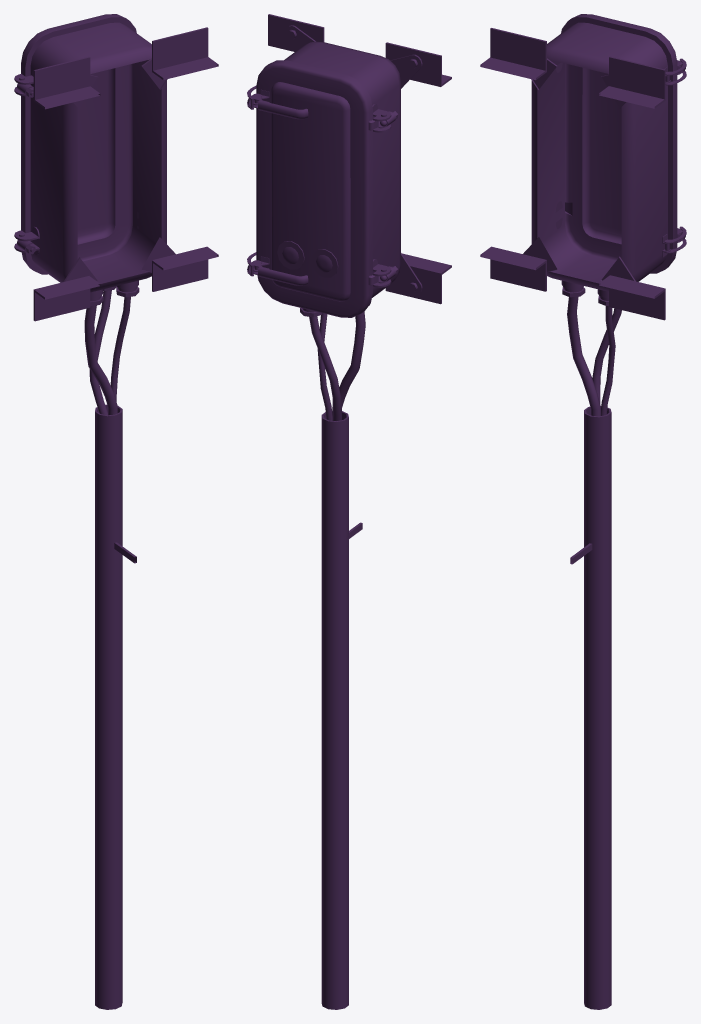
File: Engine14.fbx
3 views of the same model, side by side, from view 1: azimuth 30°, elevation 25°; view 2: azimuth 150°, elevation 25°; view 3: azimuth 330°, elevation 25° (orthographic).
Visible parts, largest first — view 1: Stuff2.004; view 2: Stuff2.004; view 3: Stuff2.004.
Boxes of the visible parts, x1=… form: Stuff2.004: x1=14, y1=14, x2=218, y2=1009; Stuff2.004: x1=247, y1=14, x2=451, y2=1009; Stuff2.004: x1=480, y1=14, x2=686, y2=1009.
Size of the model in its own units: 30.75 by 163 by 19.93.
